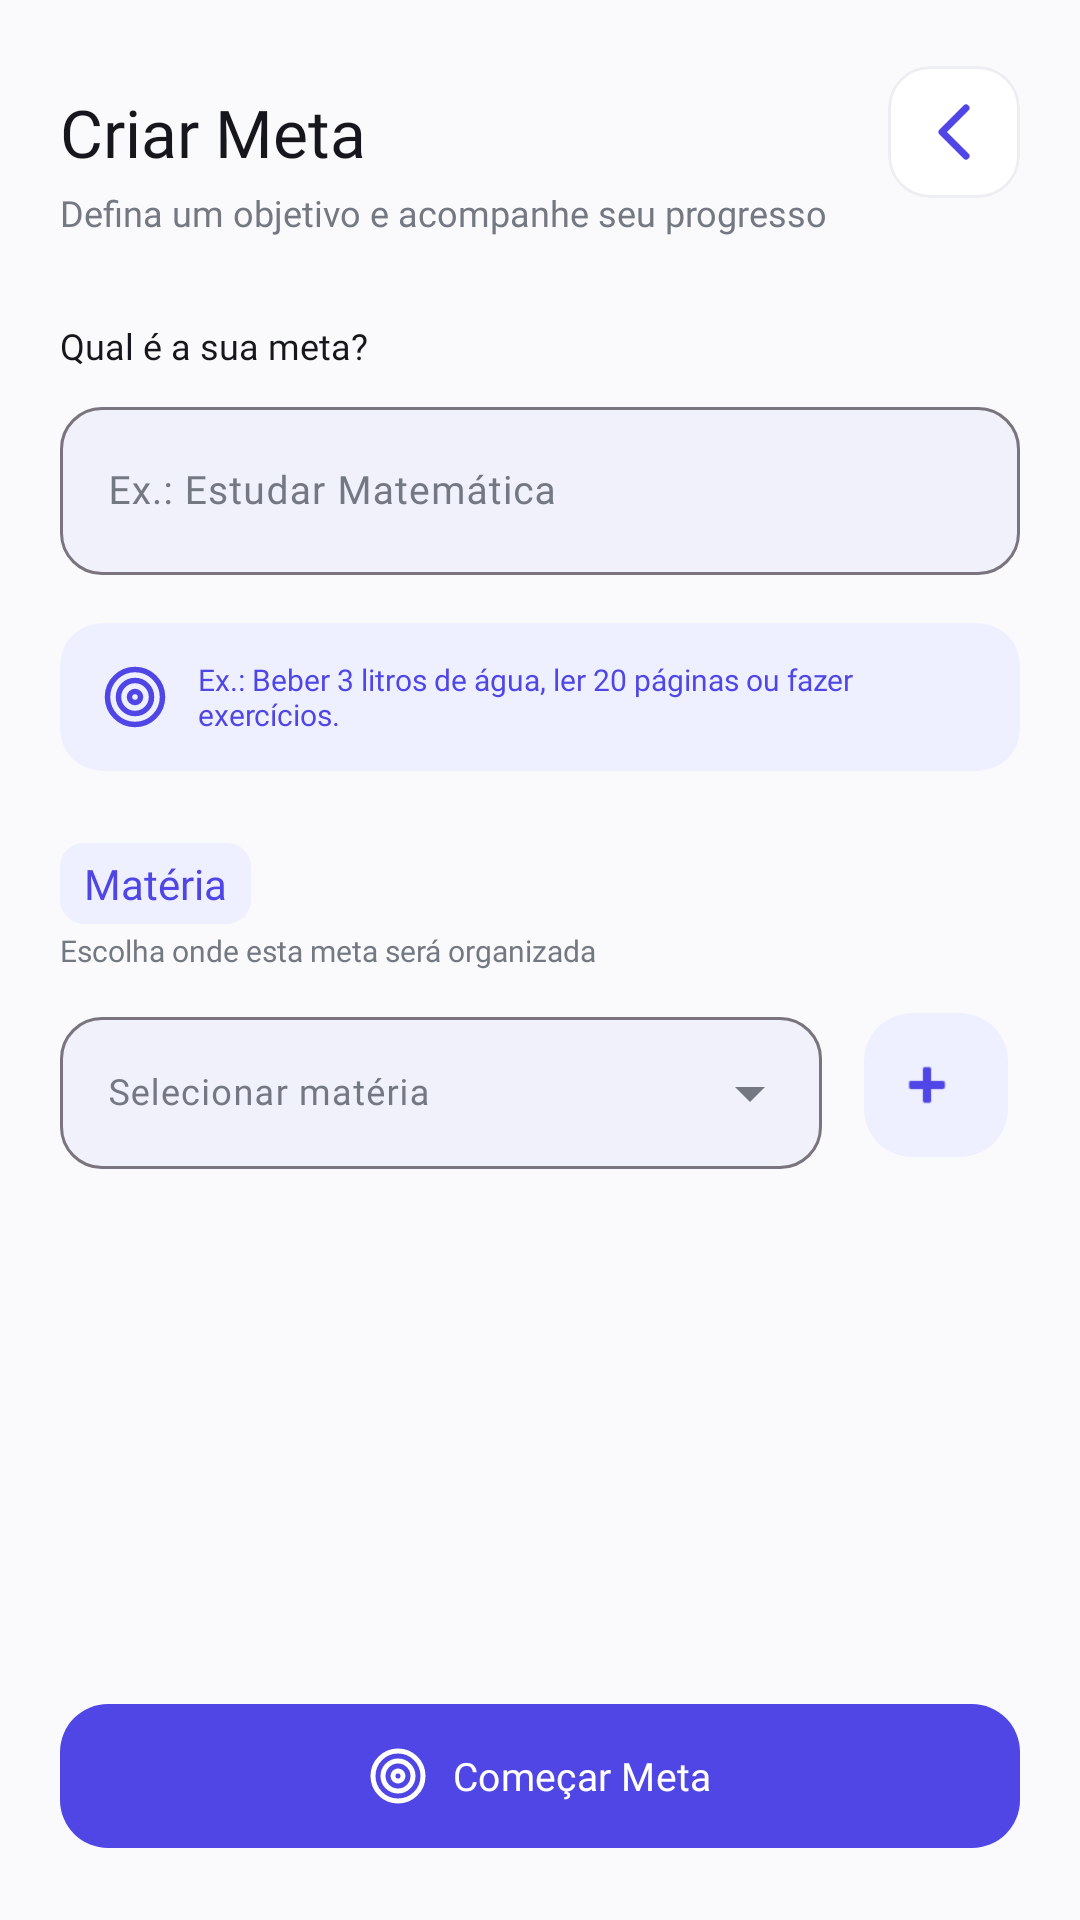

Where to tap for icons on this 1080 x 1920 app screen, as (x,y):
add: (936,1085)
target: (135,697)
Voltar: (954,132)
